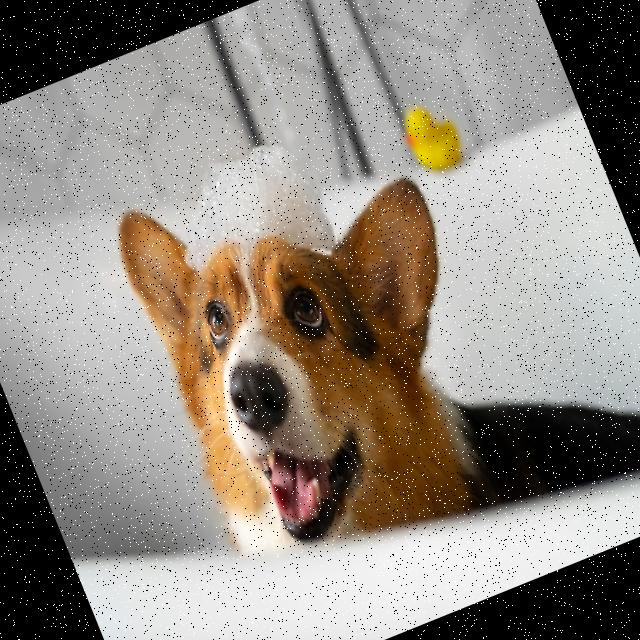Dog: (105, 107, 542, 603)
